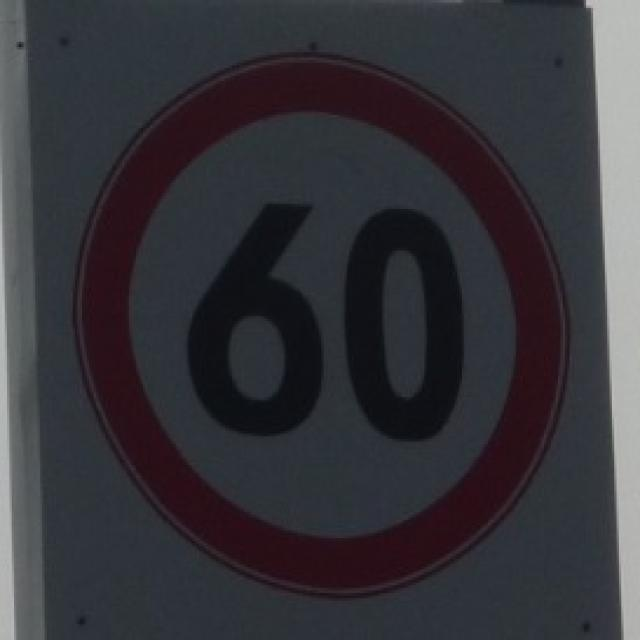Speed Limit -60-: (181, 192, 462, 448)
